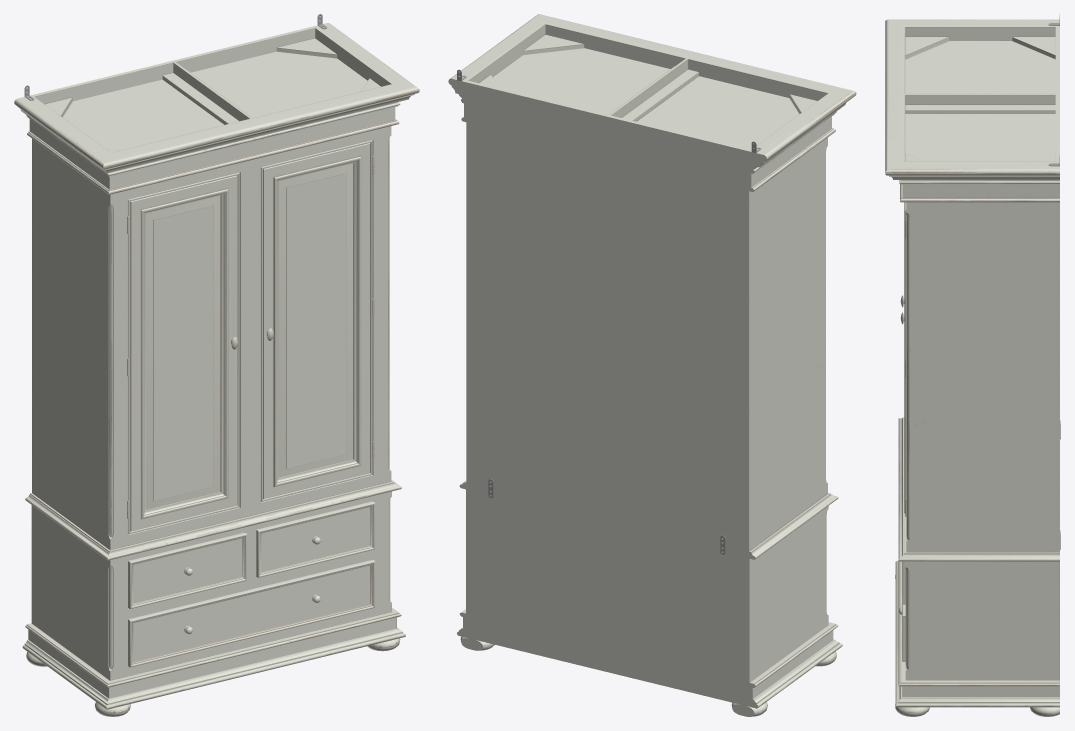
File: example131.gltf
3 renders of one model, left to right at view 1: azimuth 30°, elevation 25°; view 2: azimuth 150°, elevation 25°; view 3: azimuth 270°, elevation 25°, orthographic. The views are drawn at different scales.
Bounding box in the file's own units: 124 × 214 × 60.45.
2 materials, 1 textured.
